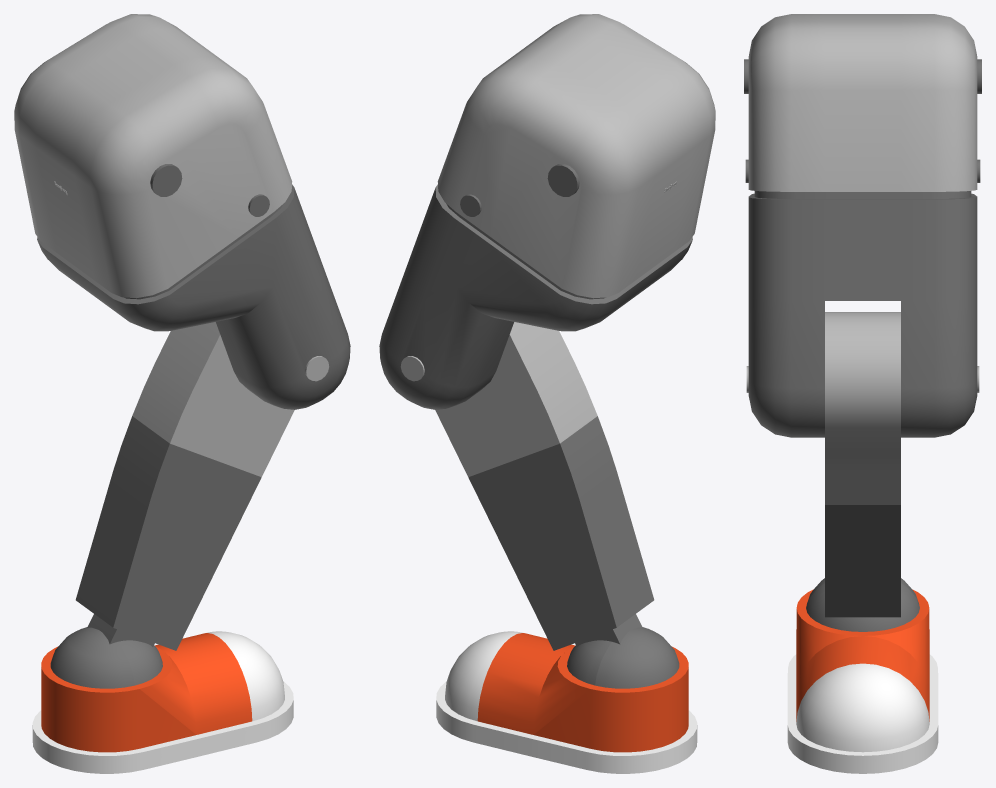
Rendered from mechanical_leg.glb.
3 renders of one model, left to right at view 1: azimuth 30°, elevation 25°; view 2: azimuth 150°, elevation 25°; view 3: azimuth 270°, elevation 25°, orthographic.
Visible parts, largest first — view 1: Cube.105; view 2: Cube.105; view 3: Cube.105.
Boxes of the visible parts, <box> form: Cube.105: <box>14,14,350,773</box>; Cube.105: <box>379,14,715,773</box>; Cube.105: <box>744,14,981,773</box>.
Bounding box in the file's own units: 0.7404 × 1.81 × 0.5638.
Materials: 1 (1 with a texture image).
